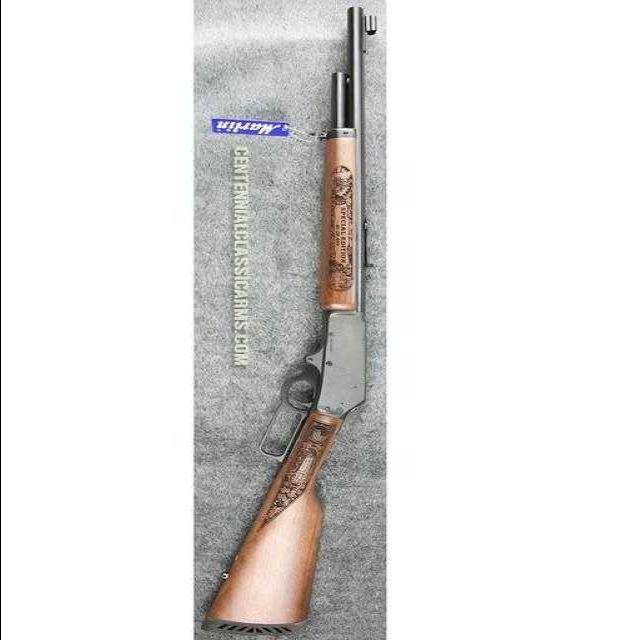heavyweapon: (199, 1, 383, 640)
